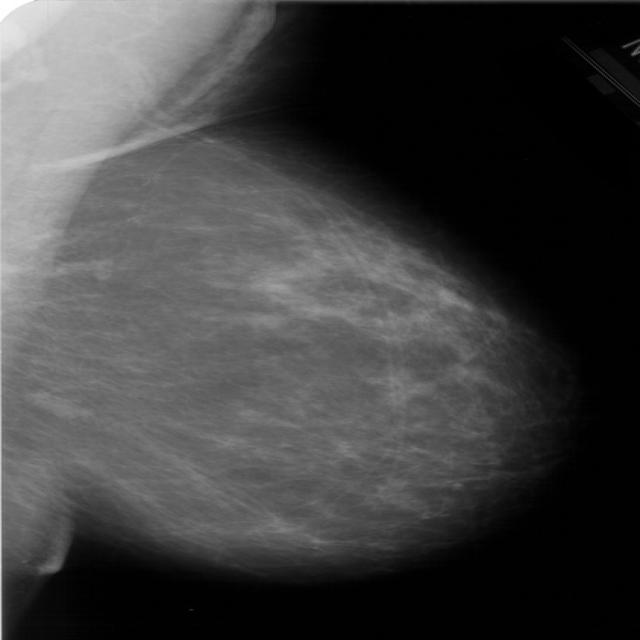tumour: (22, 389, 90, 418)
